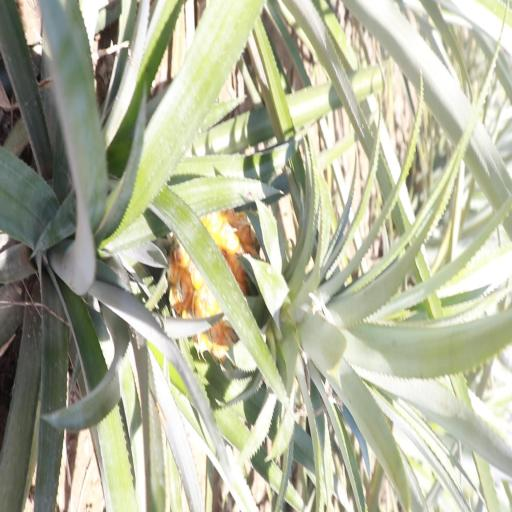Pineapple - v8 v1: (173, 210, 392, 399)
